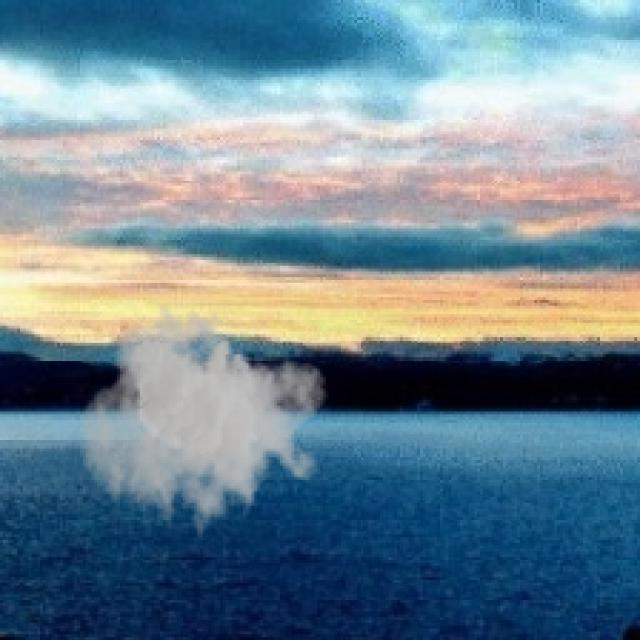smoke: (80, 303, 329, 548)
